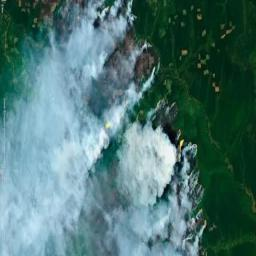Low smoke: (0, 8, 212, 255)
